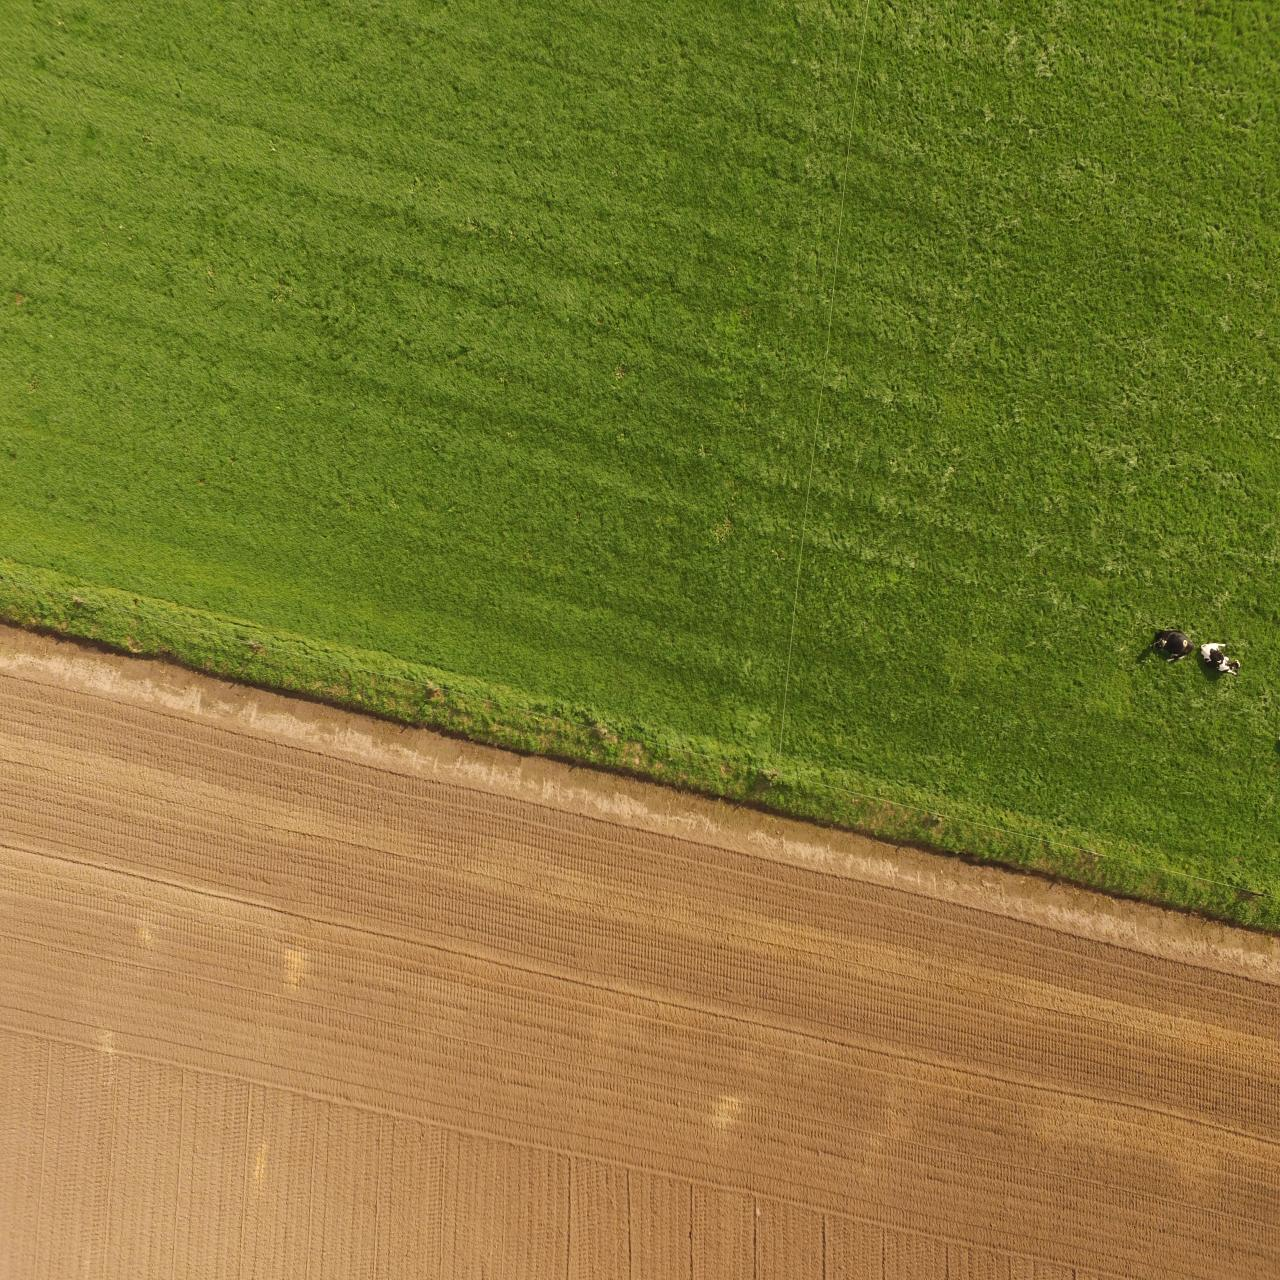cow: (1198, 639, 1244, 679), (1149, 625, 1194, 663)
